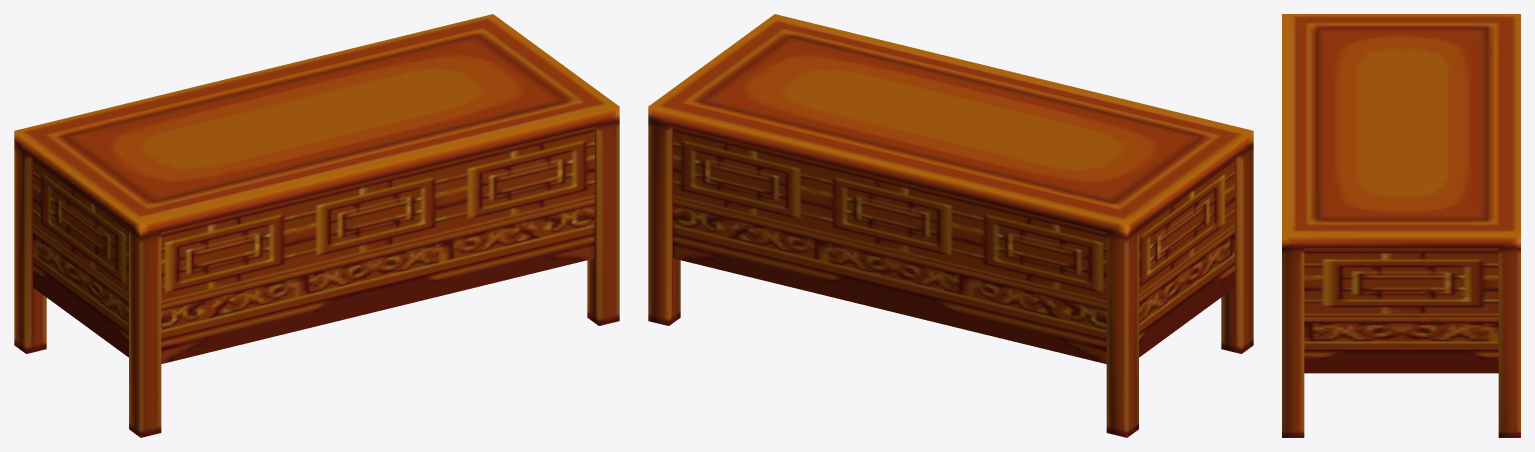
File: rmk_asi_tableM.dae
3 views of the same model, side by side, from view 1: azimuth 30°, elevation 25°; view 2: azimuth 150°, elevation 25°; view 3: azimuth 270°, elevation 25° (orthographic). The views are drawn at different scales.
Parts seen in each view (by area): view 1: rmk_asi_tableM; view 2: rmk_asi_tableM; view 3: rmk_asi_tableM.
Part boxes in pixels (x1,y1,x2,y2): rmk_asi_tableM: [14, 14, 619, 437]; rmk_asi_tableM: [648, 14, 1253, 437]; rmk_asi_tableM: [1282, 14, 1520, 437].
Bounding box in the file's own units: 56 × 24 × 25.6.
Materials: 1 (1 with a texture image).
